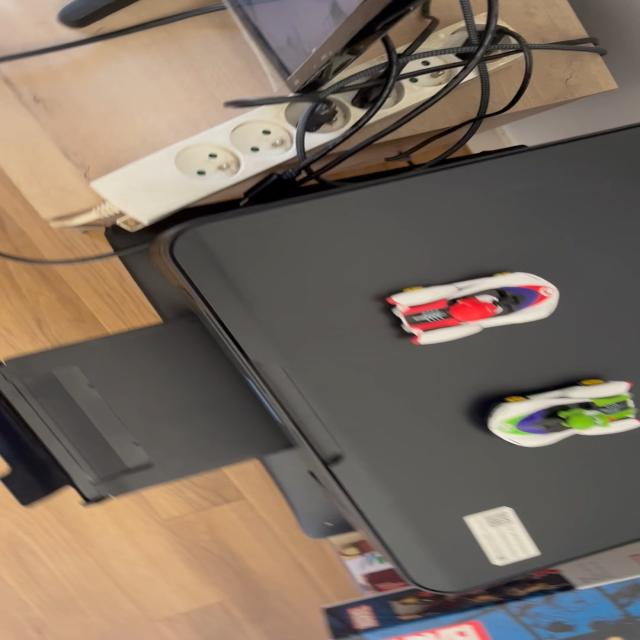mario: (372, 264, 578, 346)
yoshi: (473, 372, 640, 451)
